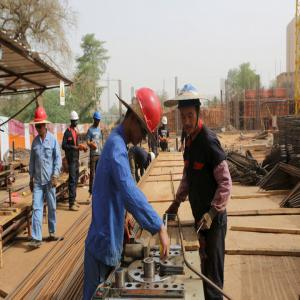blue: (93, 111, 102, 129)
none: (177, 83, 203, 138)
red: (120, 84, 159, 147), (34, 109, 49, 138)
white: (71, 109, 80, 128)
